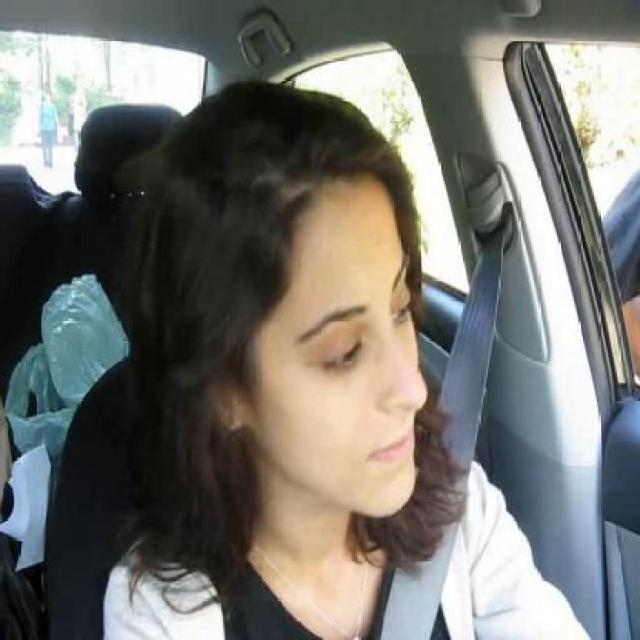awake: (326, 343, 362, 372), (392, 296, 410, 322)
